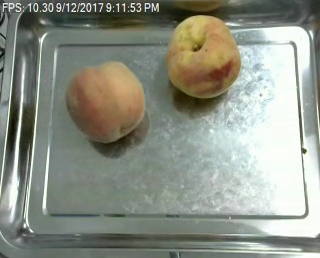Peach: (64, 61, 147, 143), (166, 14, 241, 97)
